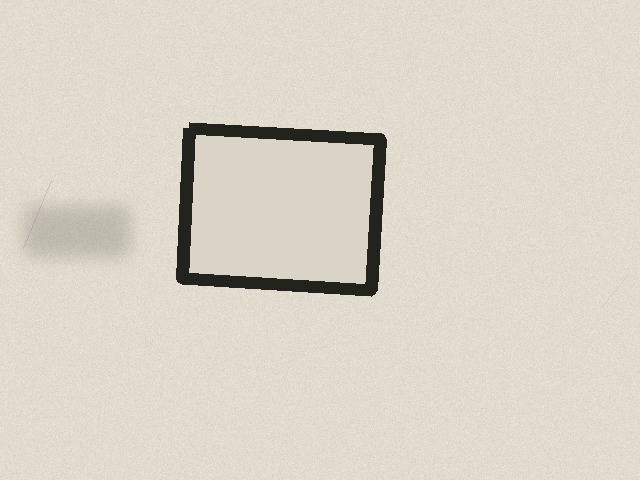parking_area: (182, 128, 380, 290)
